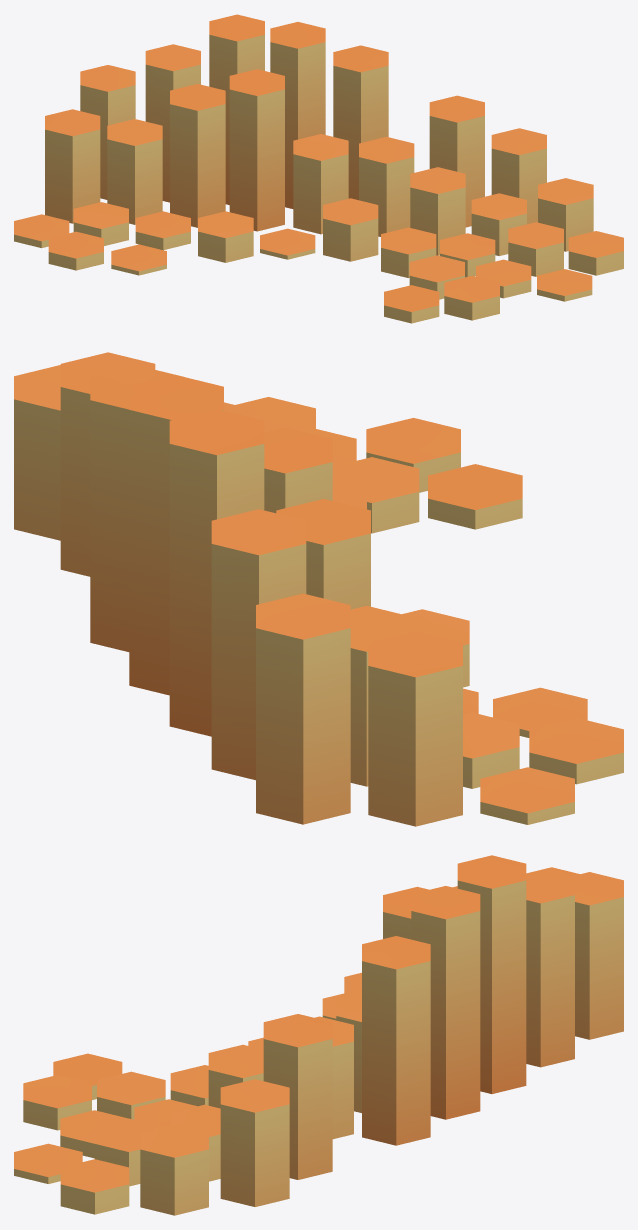
The model's file is Sand_bricks.fbx.
The picture shows the model from 3 angles, top to bottom: view 1: azimuth 30°, elevation 25°; view 2: azimuth 150°, elevation 25°; view 3: azimuth 270°, elevation 25°; orthographic projection. The views are drawn at different scales.
Parts seen in each view (by area): view 1: Sands_bricks; view 2: Sands_bricks; view 3: Sands_bricks.
Boxes of the visible parts, x1=… form: Sands_bricks: x1=14, y1=14, x2=623, y2=323; Sands_bricks: x1=14, y1=352, x2=623, y2=826; Sands_bricks: x1=14, y1=855, x2=623, y2=1215.
Size of the model in its own units: 13.57 by 4.83 by 12.99.
1 material, 1 textured.
